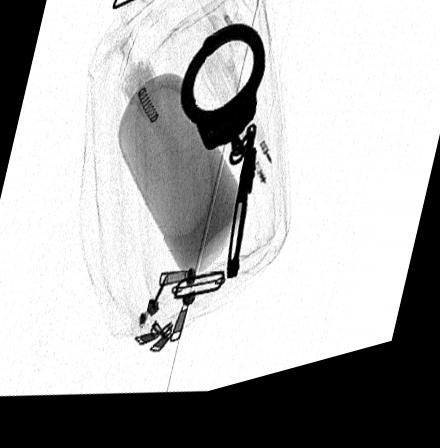HandCuffs: (180, 36, 265, 290)
